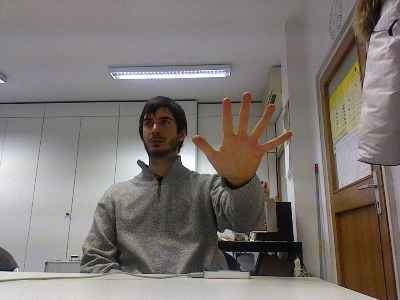布: (190, 91, 293, 184)
